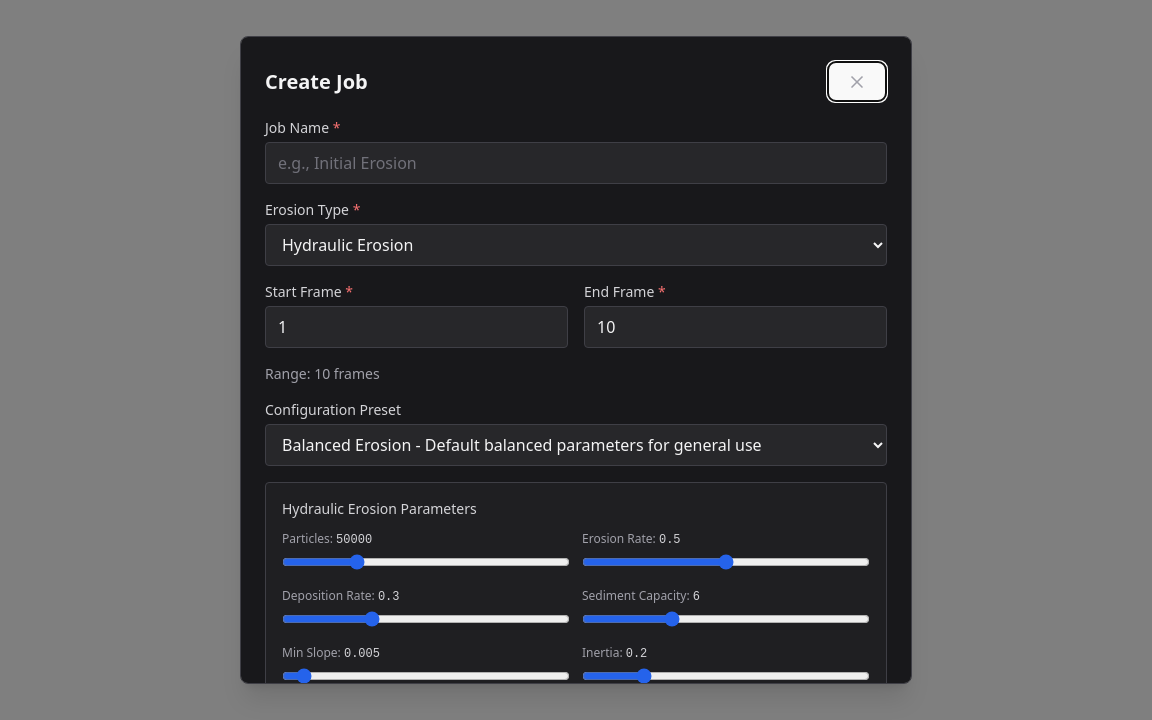
Test: JobModal › allows selecting erosion type
The image size is (1152, 720).
Change to thermal
Step 1. Select "Thermal Erosion" in the dropdown labelled "Erosion Type *" → (576, 245), box [265, 224, 887, 266]
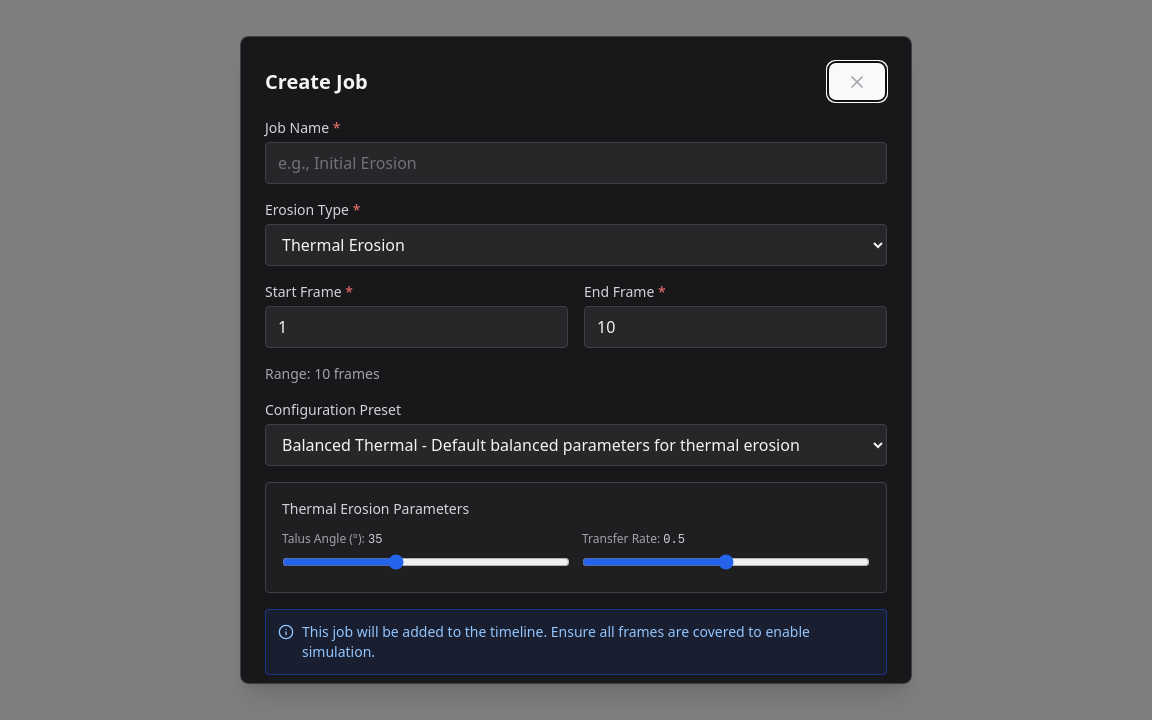
Result: the slider labelled "Talus Angle (°): 35" is shown at [282, 554, 570, 570]
